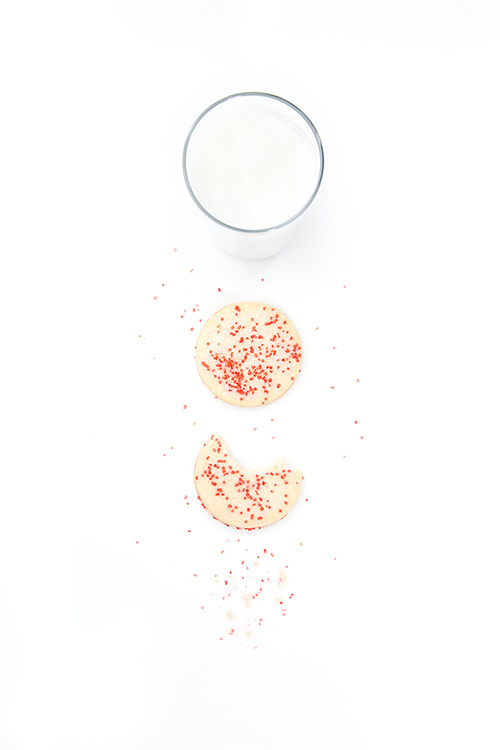glass of milk: (174, 84, 333, 270)
